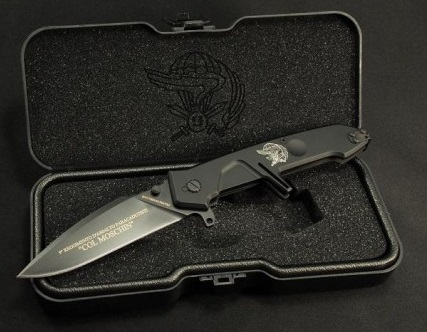knife: (11, 175, 198, 283)
